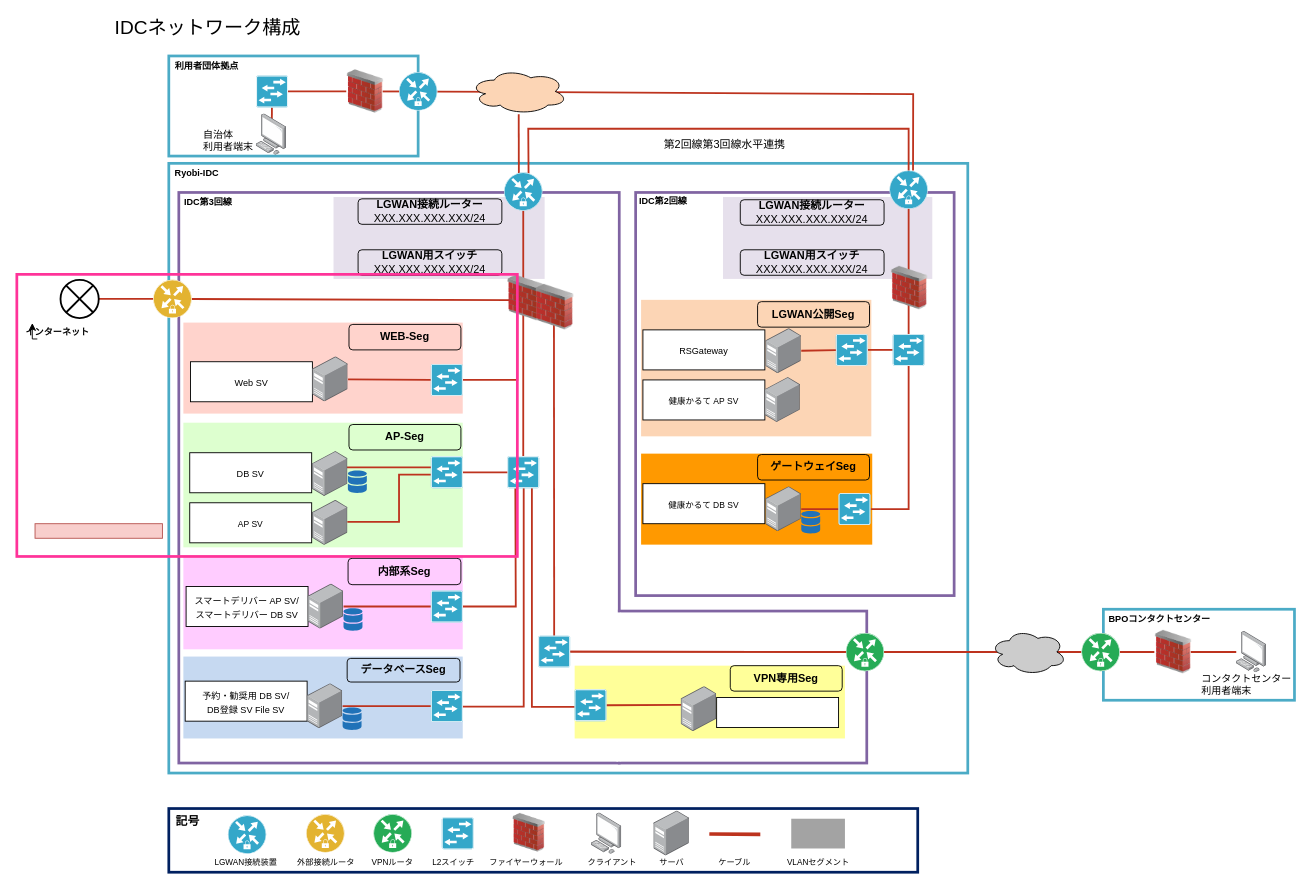
Some shapes in this 1312 by 889 pixel diagram are drawn without their labels. The centre of each missing label's shape, as x and y in pixels:
LGWAN: pixel 518 91
VPN: pixel 1028 651
予約・勧奨用 AP SV: pixel 777 712
今回追加となる部分: pixel 98 530
